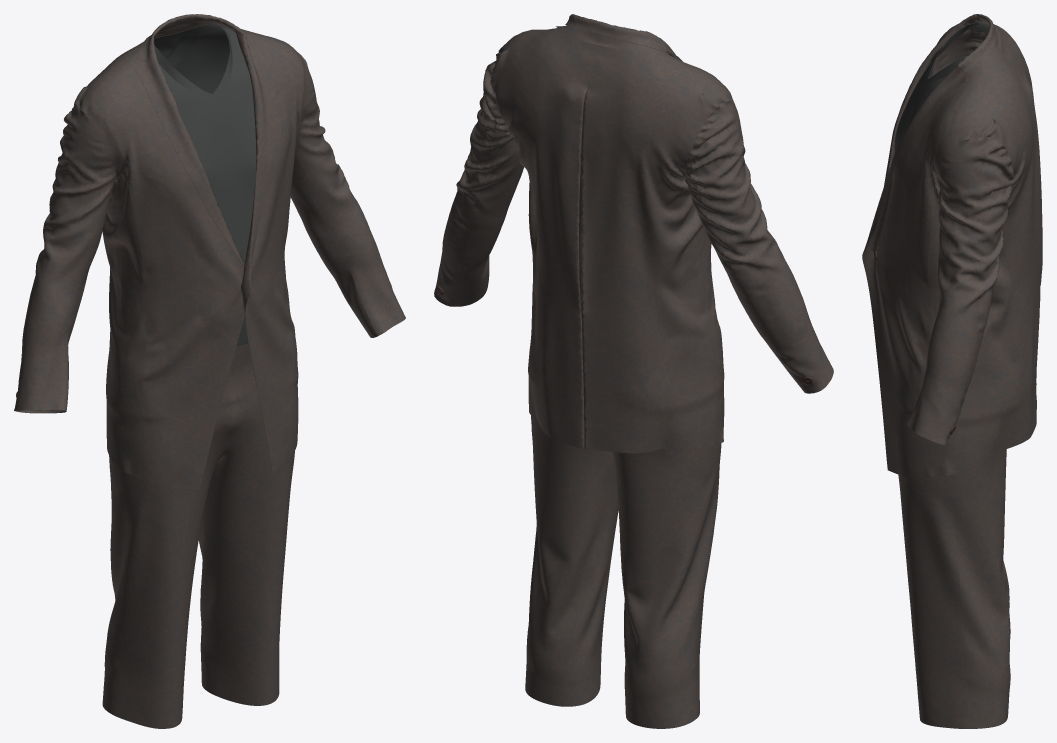
The model's file is asset.gltf.
3 renders of one model, left to right at view 1: azimuth 30°, elevation 25°; view 2: azimuth 150°, elevation 25°; view 3: azimuth 270°, elevation 25°, orthographic. The views are drawn at different scales.
Parts seen in each view (by area): view 1: P0017, a, a_1, P0019, Cloth, P0015, P0010, P0018, P0014, P0011, P0016, PARTS26 (+3 smaller); view 2: P0013, P0008, PARTS25, PARTS26, P0015, P0019, P0016, P0014, P0005, a, P0020, P0009 (+1 smaller); view 3: P0014, P0010, a_1, P0008, PARTS26, P0009, P0011, P0005, Cloth, P0018, P0019, P0013.
Boxes of the visible parts, <box> form: P0017: <box>88,57,223,490</box>; a: <box>110,363,235,728</box>; a_1: <box>210,358,294,705</box>; P0019: <box>14,104,116,412</box>; Cloth: <box>154,26,256,347</box>; P0015: <box>74,86,147,480</box>; P0010: <box>242,30,304,473</box>; P0018: <box>130,53,244,392</box>; P0014: <box>295,64,405,335</box>; P0011: <box>236,31,281,387</box>; P0016: <box>290,153,377,337</box>; PARTS26: <box>198,481,217,695</box>; P0013: <box>579,45,709,453</box>; P0008: <box>492,29,598,448</box>; PARTS25: <box>612,447,712,728</box>; PARTS26: <box>525,415,617,706</box>; P0015: <box>656,83,734,449</box>; P0019: <box>689,100,833,393</box>; P0016: <box>446,111,523,306</box>; P0014: <box>434,51,499,305</box>; P0005: <box>556,14,666,52</box>; a: <box>695,443,721,717</box>; P0020: <box>685,157,807,393</box>; P0009: <box>496,38,538,421</box>; P0014: <box>906,136,1013,445</box>; P0010: <box>878,77,991,477</box>; a_1: <box>898,474,967,728</box>; P0008: <box>982,44,1042,448</box>; PARTS26: <box>954,449,1010,728</box>; P0009: <box>917,117,1013,477</box>; P0011: <box>862,64,983,364</box>; P0005: <box>958,14,1000,72</box>; Cloth: <box>894,24,989,153</box>; P0018: <box>884,23,964,185</box>; P0019: <box>937,30,986,72</box>; P0013: <box>987,23,1032,90</box>.
Size of the model in its own units: 0.8134 by 1.36 by 0.333.
Materials: 3 (3 with a texture image).
